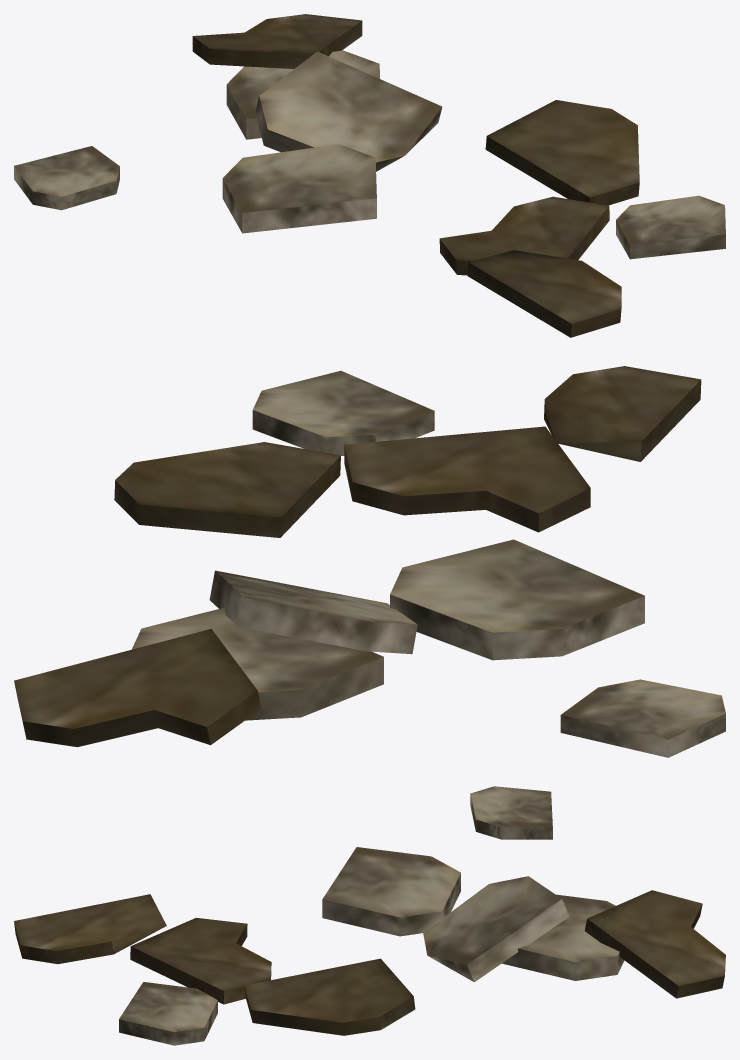
Rendered from pir_m_prp_spn_debris_stuccoB.fbx.
3 renders of one model, top to bottom at view 1: azimuth 30°, elevation 25°; view 2: azimuth 150°, elevation 25°; view 3: azimuth 270°, elevation 25°, orthographic. The views are drawn at different scales.
Parts seen in each view (by area): view 1: polySurface10, polySurface17, polySurface15, polySurface14, polySurface13, polySurface12, polySurface16, polySurface11, polySurface9; view 2: polySurface15, polySurface12, polySurface13, polySurface17, polySurface9, polySurface14, polySurface16, polySurface10, polySurface11; view 3: polySurface17, polySurface15, polySurface12, polySurface10, polySurface13, polySurface14, polySurface9, polySurface16, polySurface11.
Part boxes in pixels (x1,y1,x2,y2): polySurface10: (255, 51, 442, 171); polySurface17: (485, 100, 639, 205); polySurface15: (222, 144, 376, 233); polySurface14: (467, 250, 621, 337); polySurface13: (439, 196, 609, 275); polySurface12: (192, 14, 362, 68); polySurface16: (616, 195, 725, 259); polySurface11: (14, 146, 119, 210); polySurface9: (226, 50, 379, 139); polySurface15: (390, 539, 644, 660); polySurface12: (14, 628, 261, 747); polySurface13: (344, 426, 590, 532); polySurface17: (114, 442, 340, 537); polySurface9: (132, 608, 383, 720); polySurface14: (544, 366, 701, 461); polySurface16: (252, 370, 434, 455); polySurface10: (209, 570, 417, 654); polySurface11: (560, 679, 725, 757); polySurface17: (244, 958, 415, 1035); polySurface15: (322, 847, 460, 936); polySurface12: (584, 890, 725, 998); polySurface10: (423, 876, 569, 982); polySurface13: (130, 917, 271, 1004); polySurface14: (14, 894, 166, 964); polySurface9: (502, 894, 624, 980); polySurface16: (119, 982, 217, 1045); polySurface11: (470, 786, 552, 839).
Size of what is drawn, in the model's own units: 369 by 47.79 by 471.
Materials: 1 (1 with a texture image).
